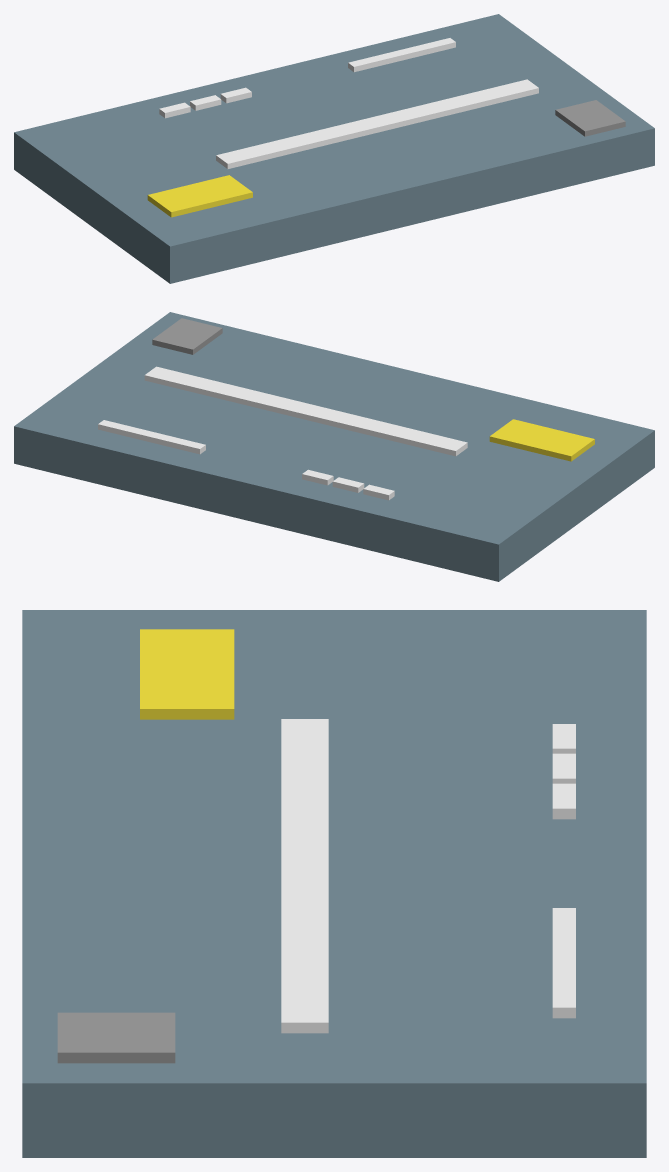
3 views of the same model, one above another, from view 1: azimuth 30°, elevation 25°; view 2: azimuth 150°, elevation 25°; view 3: azimuth 270°, elevation 25° (orthographic). The views are drawn at different scales.
Parts seen in each view (by area): view 1: mesh_181240828, mesh_1315898813, mesh_445749131, mesh_522274914, mesh_1713489719; view 2: mesh_181240828, mesh_1315898813, mesh_445749131, mesh_522274914, mesh_1713489719; view 3: mesh_181240828, mesh_1315898813, mesh_445749131, mesh_522274914, mesh_1713489719, mesh_820684088.
Part boxes in pixels (<box>): mesh_181240828: <box>14,14,654,283</box>; mesh_1315898813: <box>216,79,538,168</box>; mesh_445749131: <box>147,175,252,217</box>; mesh_522274914: <box>555,100,625,136</box>; mesh_1713489719: <box>348,38,455,72</box>; mesh_181240828: <box>14,312,654,581</box>; mesh_1315898813: <box>144,366,467,456</box>; mesh_445749131: <box>489,419,594,461</box>; mesh_522274914: <box>152,318,222,354</box>; mesh_1713489719: <box>98,420,205,454</box>; mesh_181240828: <box>22,610,646,1157</box>; mesh_1315898813: <box>281,719,328,1033</box>; mesh_445749131: <box>140,629,234,719</box>; mesh_522274914: <box>57,1012,175,1063</box>; mesh_1713489719: <box>552,908,575,1018</box>; mesh_820684088: <box>552,783,575,819</box>.
Bounding box in the file's own units: 95 × 9 × 53.
